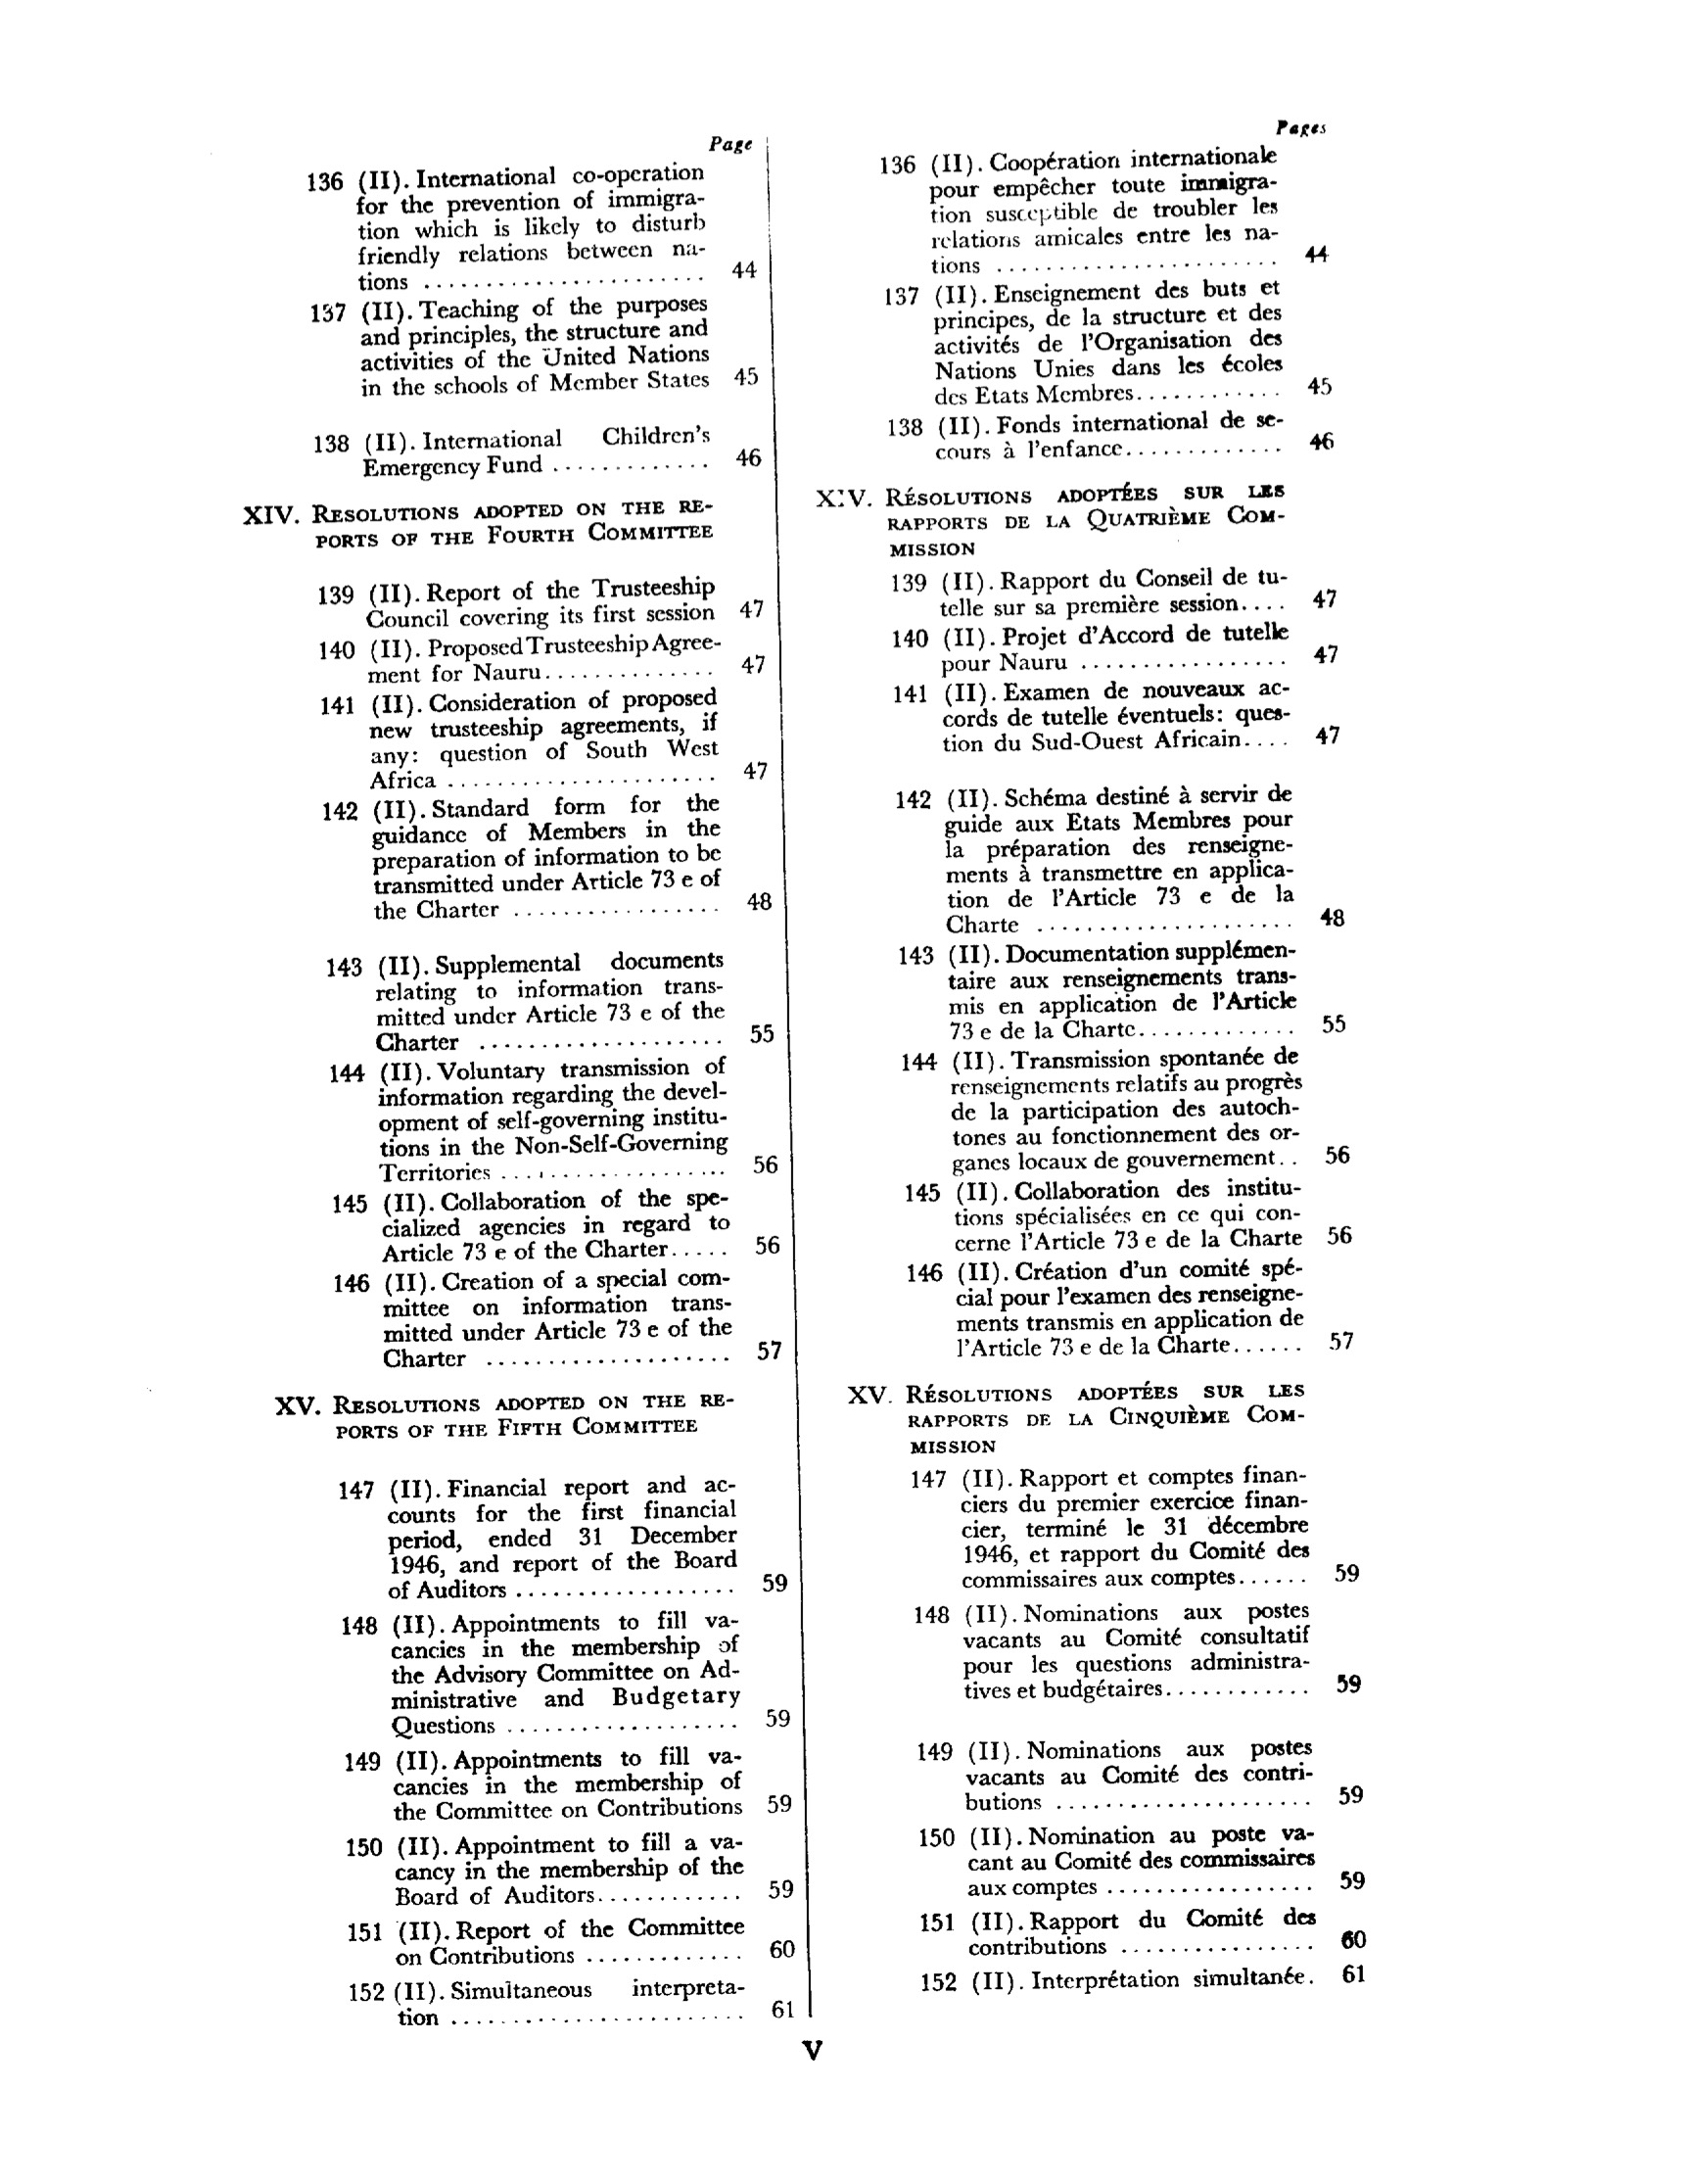QuireMarksZone: (782, 106, 1409, 2016), (232, 128, 821, 2030)
TitlePageZone: (796, 2039, 838, 2071)
